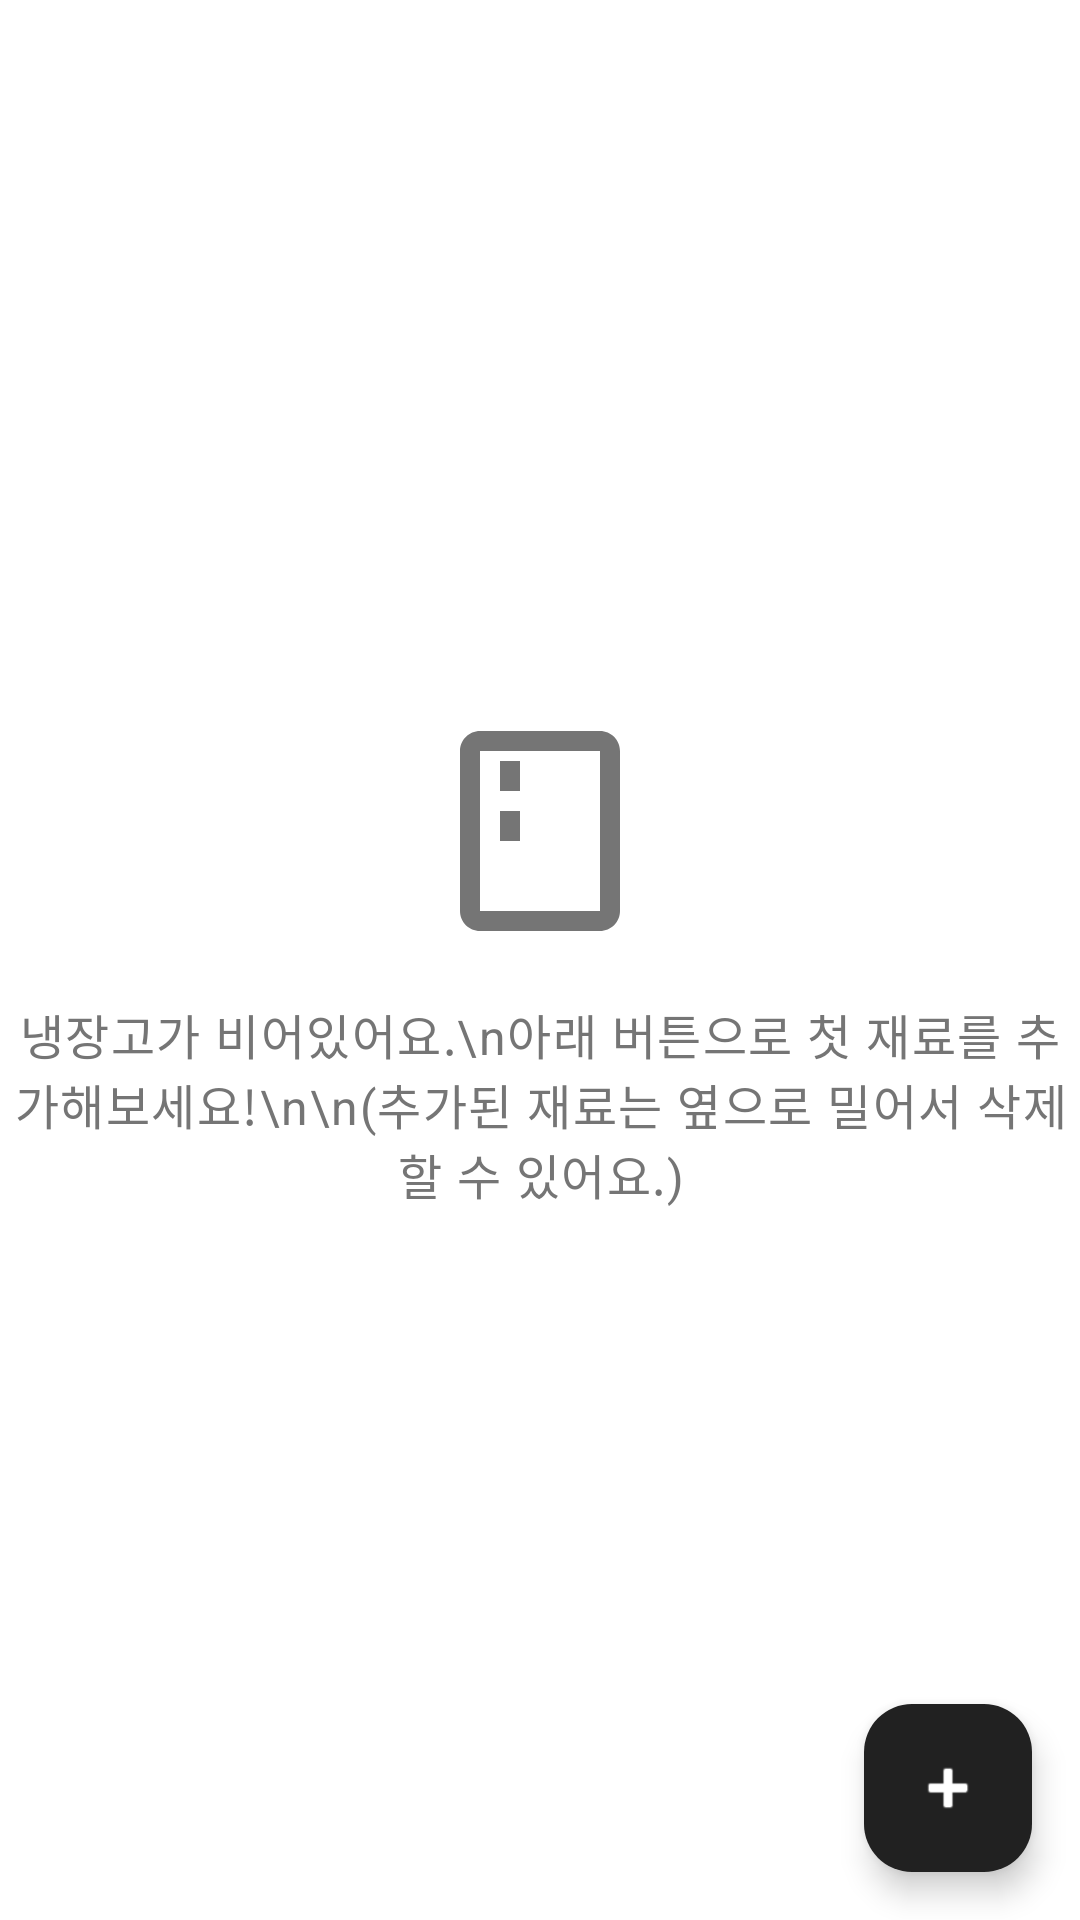

Point at icon controls on the screen. Image size 1080x1920, points as point (x, y).
pantry empty: point (540, 831)
재료 추가: point (948, 1788)
